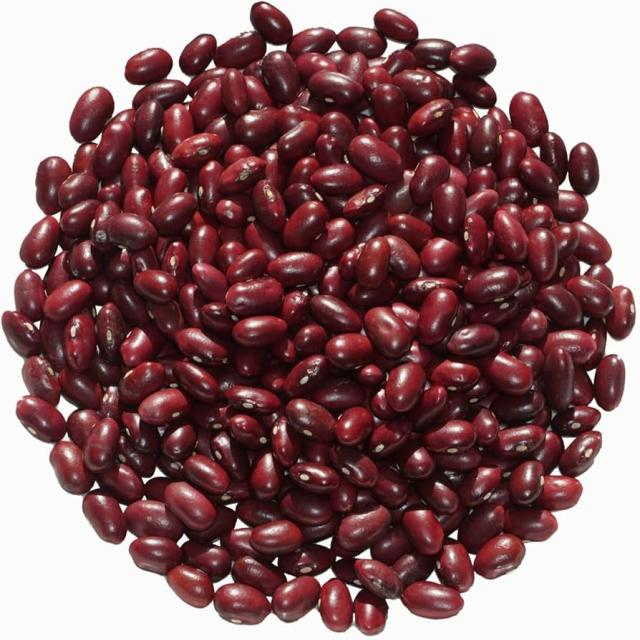frijoles: (5, 2, 629, 632)
